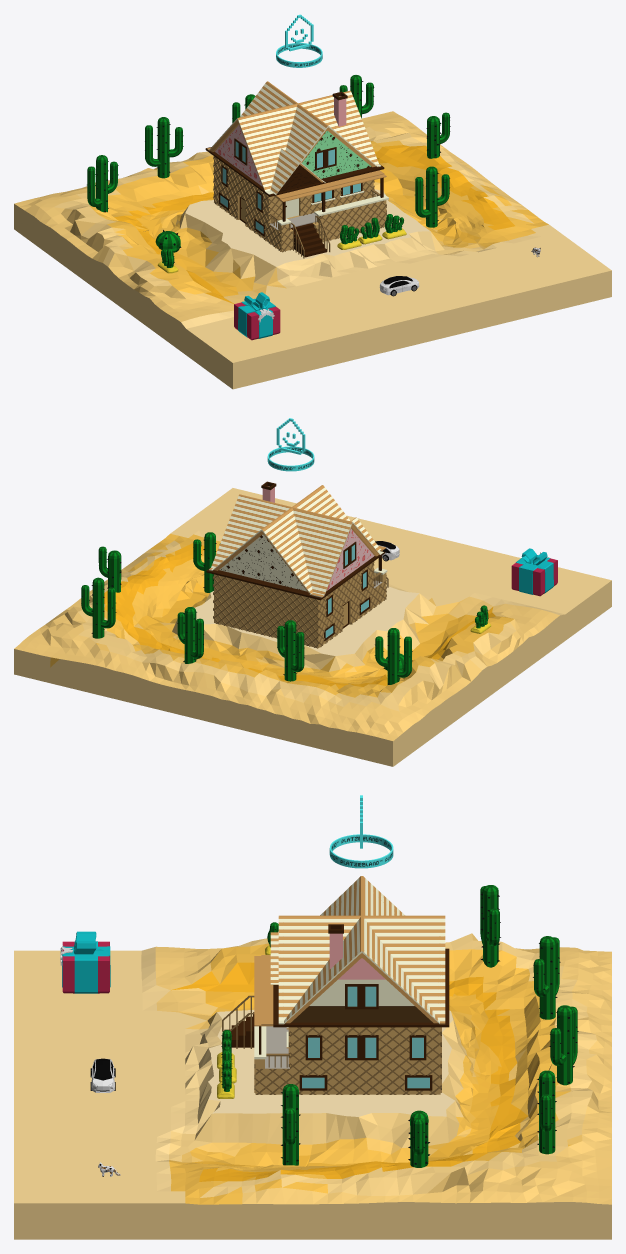
3 renders of one model, top to bottom at view 1: azimuth 30°, elevation 25°; view 2: azimuth 150°, elevation 25°; view 3: azimuth 270°, elevation 25°, orthographic. The views are drawn at different scales.
Parts seen in each view (by area): view 1: Cube.001, Cube.1102, OBJRANDOM_GIANT_PRESENT, Cylinder.044, Cylinder.037, Cylinder.045, TYPE_PREMIUM, Cylinder.038, Cylinder.042, VEHICLES_TESLA; view 2: Cube.001, Cube.1102, OBJRANDOM_GIANT_PRESENT, Cylinder.042, Cylinder.045, Cylinder.044, Cylinder.043, TYPE_PREMIUM, Cylinder.037, Cylinder.038; view 3: Cube.001, Cube.1102, OBJRANDOM_GIANT_PRESENT, Cylinder.044, Cylinder.043, Cylinder.045, Cylinder.042, Cylinder.037, TYPE_PREMIUM, Cylinder.038, VEHICLES_TESLA.
Boxes of the visible parts, box(x1,y1,x2,y2) form: Cube.001: box(14, 111, 611, 389); Cube.1102: box(205, 81, 388, 258); OBJRANDOM_GIANT_PRESENT: box(234, 292, 280, 340); Cylinder.044: box(145, 117, 183, 178); Cylinder.037: box(415, 166, 449, 227); Cylinder.045: box(87, 155, 118, 212); TYPE_PREMIUM: box(276, 14, 322, 67); Cylinder.038: box(426, 112, 450, 158); Cylinder.042: box(339, 75, 374, 118); VEHICLES_TESLA: box(379, 276, 419, 296); Cube.001: box(14, 488, 611, 766); Cube.1102: box(206, 481, 388, 648); OBJRANDOM_GIANT_PRESENT: box(511, 548, 557, 596); Cylinder.042: box(81, 577, 116, 638); Cylinder.045: box(374, 628, 412, 684); Cylinder.044: box(277, 620, 304, 681); Cylinder.043: box(177, 607, 203, 663); TYPE_PREMIUM: box(267, 418, 314, 471); Cylinder.037: box(193, 532, 220, 592); Cylinder.038: box(98, 546, 121, 592); Cube.001: box(14, 933, 611, 1239); Cube.1102: box(222, 876, 449, 1094); OBJRANDOM_GIANT_PRESENT: box(60, 931, 110, 993); Cylinder.044: box(533, 936, 560, 1019); Cylinder.043: box(549, 1005, 578, 1085); Cylinder.045: box(480, 885, 500, 967); Cylinder.042: box(537, 1070, 556, 1154); Cylinder.037: box(281, 1084, 300, 1165); TYPE_PREMIUM: box(329, 795, 393, 868); Cylinder.038: box(408, 1110, 429, 1167); VEHICLES_TESLA: box(90, 1058, 115, 1092).
Size of the model in its own units: 4002 by 2589 by 4001.
Materials: 31 (4 with a texture image).
